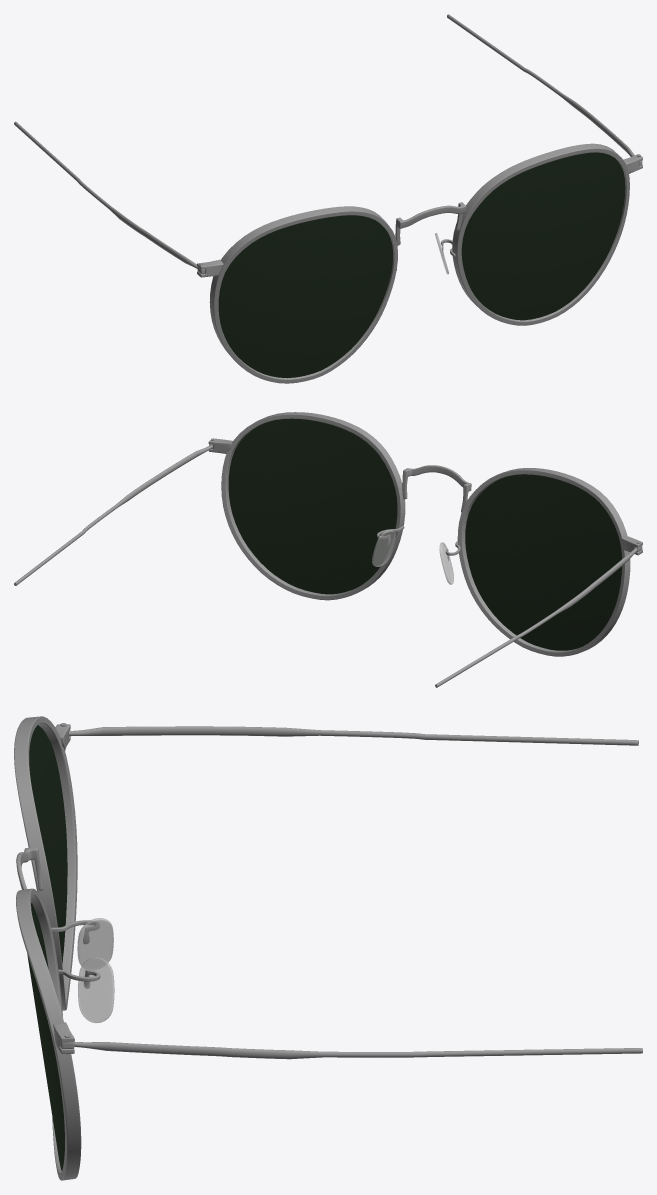
The model's file is ROUND_app.glb.
3 renders of one model, top to bottom at view 1: azimuth 30°, elevation 25°; view 2: azimuth 150°, elevation 25°; view 3: azimuth 270°, elevation 25°, orthographic. The views are drawn at different scales.
Visible parts, largest first — view 1: Lentes.001, Armacao; view 2: Lentes.001, Armacao, Pontes.001; view 3: Armacao, Lentes.001, Pontes.001.
Part boxes in pixels (left/top/right/bottom): Lentes.001: left=218, top=152, right=625, bottom=378; Armacao: left=14, top=14, right=642, bottom=383; Lentes.001: left=228, top=418, right=621, bottom=650; Armacao: left=14, top=412, right=642, bottom=687; Pontes.001: left=372, top=530, right=453, bottom=584; Armacao: left=14, top=716, right=642, bottom=1180; Lentes.001: left=27, top=725, right=67, bottom=1170; Pontes.001: left=77, top=918, right=114, bottom=1023.
Size of the model in its own units: 0.144 by 0.0533 by 0.1175.
3 materials, 3 textured.
